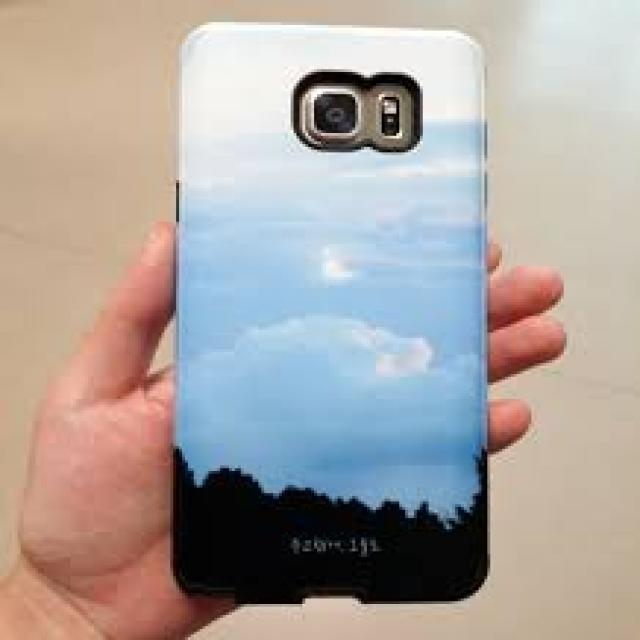phone: (166, 16, 496, 608)
